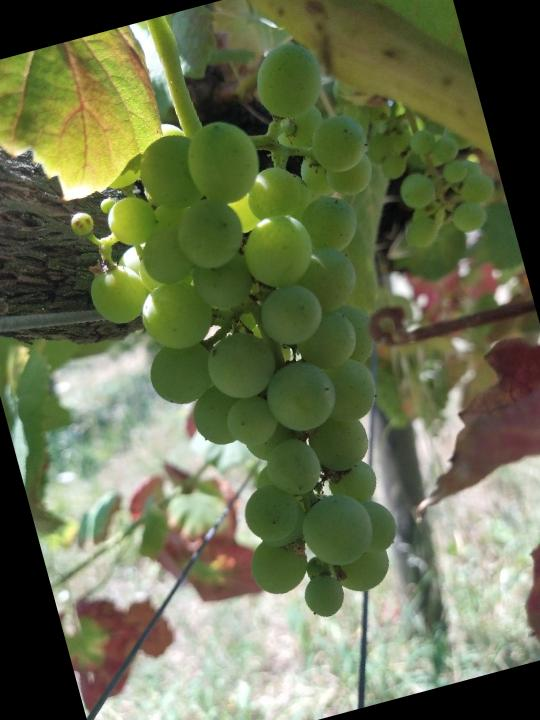grape: (39, 26, 494, 658)
